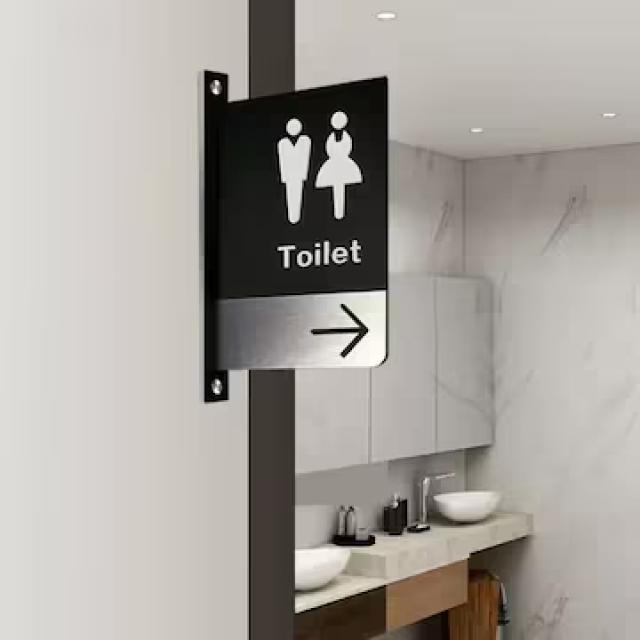toilet_icon: (268, 103, 370, 231)
